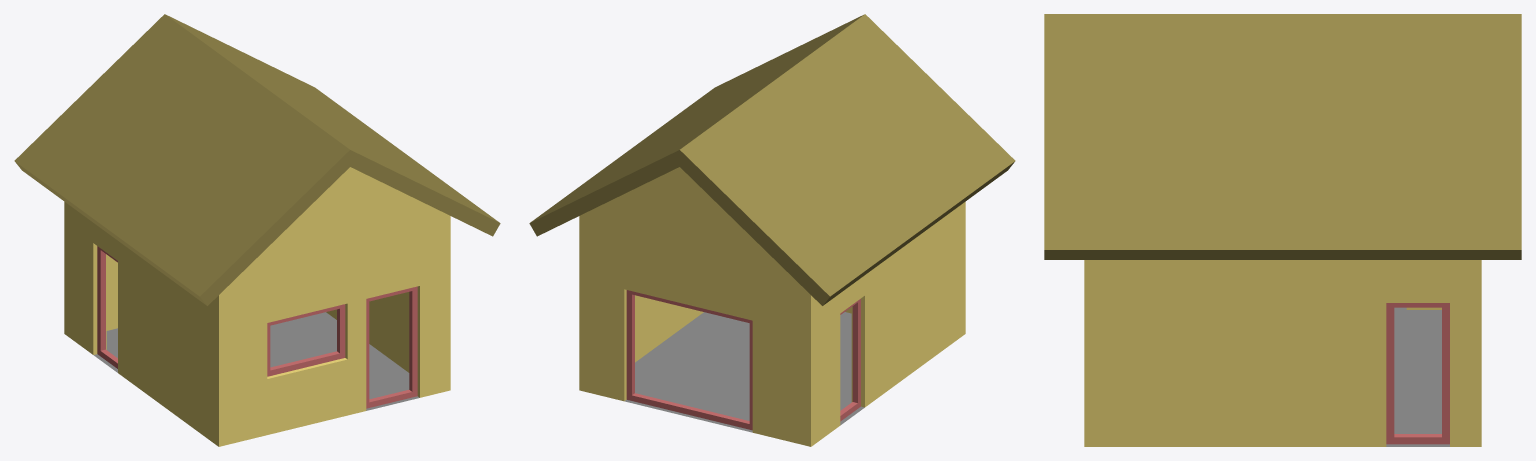
Rendered from result.glb.
3 renders of one model, left to right at view 1: azimuth 30°, elevation 25°; view 2: azimuth 150°, elevation 25°; view 3: azimuth 270°, elevation 25°, orthographic. The views are drawn at different scales.
Visible parts, largest first — view 1: eceb0550-a58c-44f2-8e9a-9f746c2a7417__undefined (×2), c2157032-ad97-4a0b-84e2-cd696075c3df__undefined, ad52105c-1bec-4aad-bfa7-83d47147298b__Plane_6, e1cb97d9-5dda-401e-b616-1fdc4a9639b3__Box, 4e3a90c9-7c99-4d6d-a3cc-113aee564b3c__Box_3, 3528856b-fa18-4e1a-b201-30ae9140c00d__Box_12; view 2: eceb0550-a58c-44f2-8e9a-9f746c2a7417__undefined (×2), c2157032-ad97-4a0b-84e2-cd696075c3df__undefined, ad52105c-1bec-4aad-bfa7-83d47147298b__Plane_6, e380b1dd-a5c4-4968-a540-d4cfe29cec08__Box_9, 3528856b-fa18-4e1a-b201-30ae9140c00d__Box_12; view 3: eceb0550-a58c-44f2-8e9a-9f746c2a7417__undefined, c2157032-ad97-4a0b-84e2-cd696075c3df__undefined, ad52105c-1bec-4aad-bfa7-83d47147298b__Plane_6, 0528d753-cf9c-4ddf-bf75-91ec15e57fa1__Box_15.
Part boxes in pixels (x1,y1,x2,y2): eceb0550-a58c-44f2-8e9a-9f746c2a7417__undefined (×2): [14, 14, 500, 305]; c2157032-ad97-4a0b-84e2-cd696075c3df__undefined: [64, 167, 450, 446]; ad52105c-1bec-4aad-bfa7-83d47147298b__Plane_6: [93, 312, 419, 410]; e1cb97d9-5dda-401e-b616-1fdc4a9639b3__Box: [366, 286, 417, 408]; 4e3a90c9-7c99-4d6d-a3cc-113aee564b3c__Box_3: [267, 304, 345, 376]; 3528856b-fa18-4e1a-b201-30ae9140c00d__Box_12: [97, 246, 117, 368]; eceb0550-a58c-44f2-8e9a-9f746c2a7417__undefined (×2): [529, 14, 1015, 305]; c2157032-ad97-4a0b-84e2-cd696075c3df__undefined: [579, 167, 965, 446]; ad52105c-1bec-4aad-bfa7-83d47147298b__Plane_6: [624, 312, 864, 432]; e380b1dd-a5c4-4968-a540-d4cfe29cec08__Box_9: [626, 290, 752, 430]; 3528856b-fa18-4e1a-b201-30ae9140c00d__Box_12: [840, 298, 860, 421]; eceb0550-a58c-44f2-8e9a-9f746c2a7417__undefined: [1044, 14, 1521, 259]; c2157032-ad97-4a0b-84e2-cd696075c3df__undefined: [1084, 260, 1481, 446]; ad52105c-1bec-4aad-bfa7-83d47147298b__Plane_6: [1386, 307, 1449, 446]; 0528d753-cf9c-4ddf-bf75-91ec15e57fa1__Box_15: [1386, 303, 1449, 444].
Size of the model in its own units: 562 by 500 by 600.
